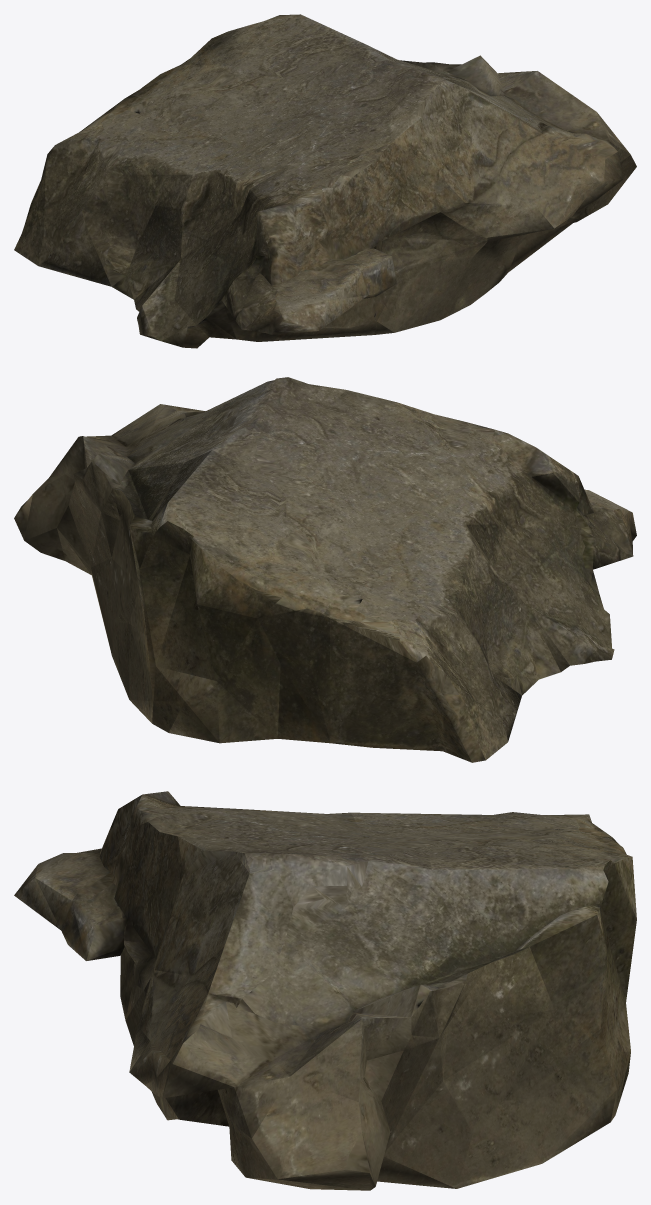
File: Rock 2.fbx
3 views of the same model, one above another, from view 1: azimuth 30°, elevation 25°; view 2: azimuth 150°, elevation 25°; view 3: azimuth 270°, elevation 25° (orthographic). The views are drawn at different scales.
Visible parts, largest first — view 1: Rock_2; view 2: Rock_2; view 3: Rock_2.
Part boxes in pixels (x1,y1,x2,y2): Rock_2: [14, 14, 636, 348]; Rock_2: [14, 377, 636, 762]; Rock_2: [14, 791, 636, 1190].
Bounding box in the file's own units: 121 × 49.36 × 96.21.
1 material, 1 textured.
